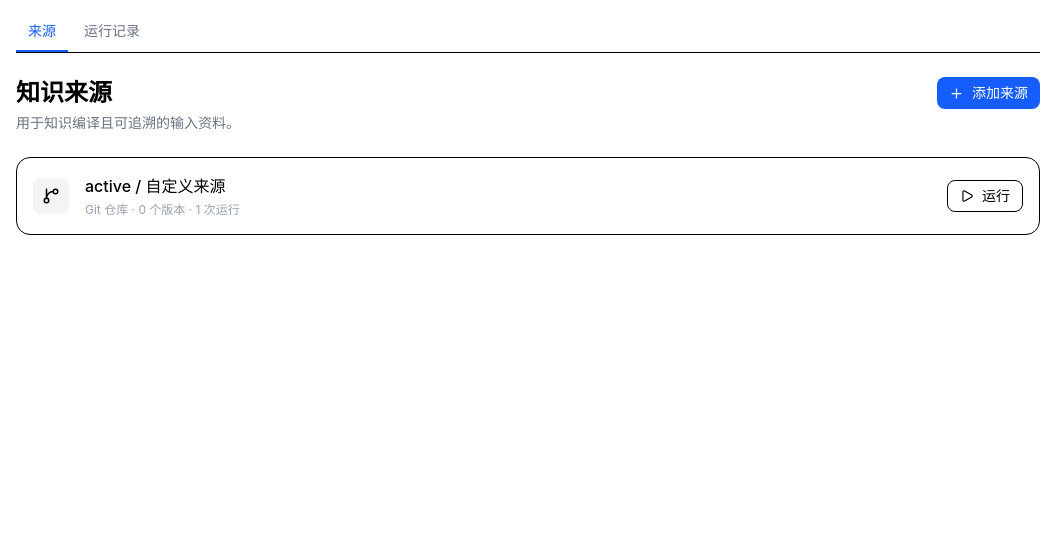
Test: SourcesPage file upload › localizes source and run states in zh-CN while preserving the source name
The image size is (1057, 554).
Click the button "active / 自定义来源 Git 仓库 · 0 个版本 · 1 次运行".
click(155, 186)  # box [85,174,931,218]
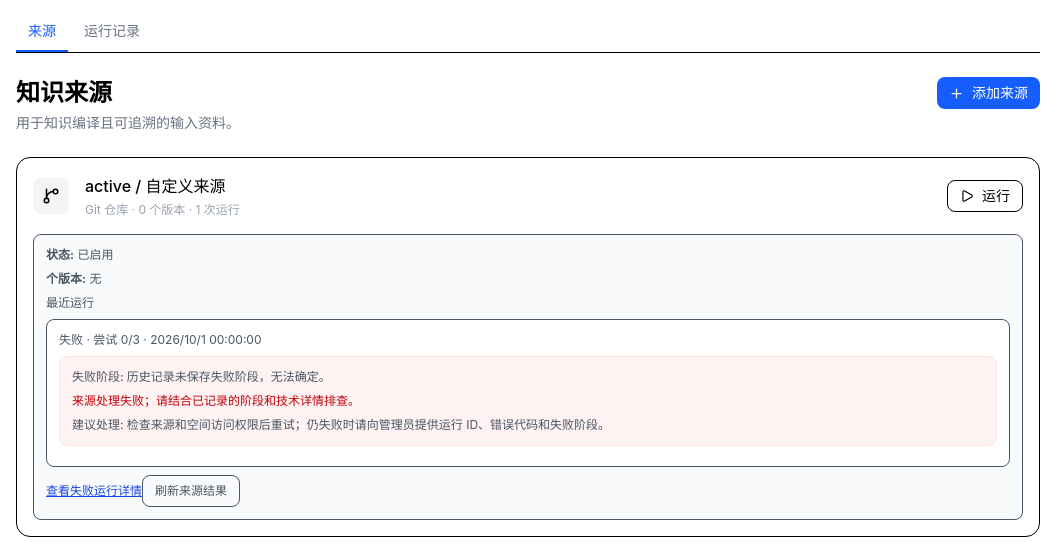
Expected: the text "active / 自定义来源" is shown, [85,176,226,196]
Expected: the text "已启用" is shown, [77,247,113,262]
Expected: the text "失败" is shown, [59,332,83,347]
